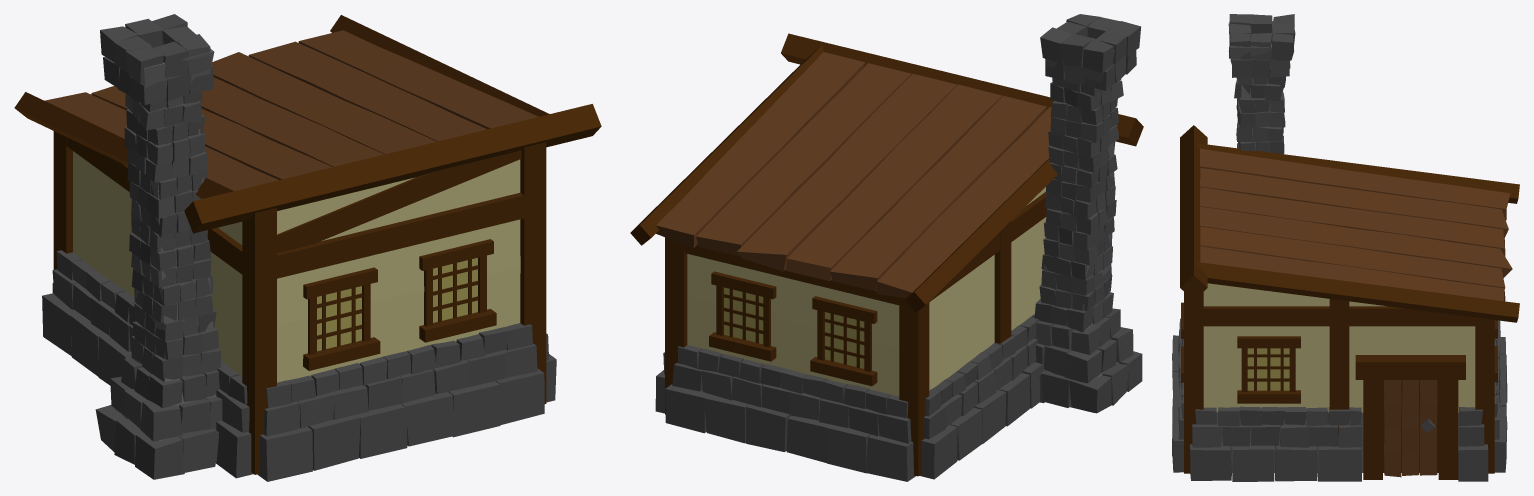
Rendered from Residential_1.fbx.
3 views of the same model, side by side, from view 1: azimuth 30°, elevation 25°; view 2: azimuth 150°, elevation 25°; view 3: azimuth 270°, elevation 25° (orthographic). The views are drawn at different scales.
Visible parts, largest first — view 1: Cube.017; view 2: Cube.017; view 3: Cube.017.
Boxes of the visible parts, <box> form: Cube.017: <box>14,14,601,481</box>; Cube.017: <box>630,14,1143,481</box>; Cube.017: <box>1172,14,1519,481</box>.
Bounding box in the file's own units: 641 × 597 × 584.
